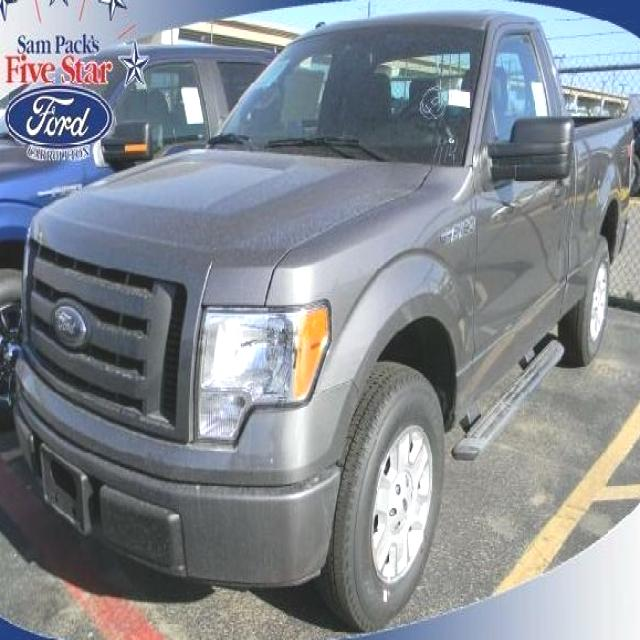CMT: (6, 11, 627, 608)
